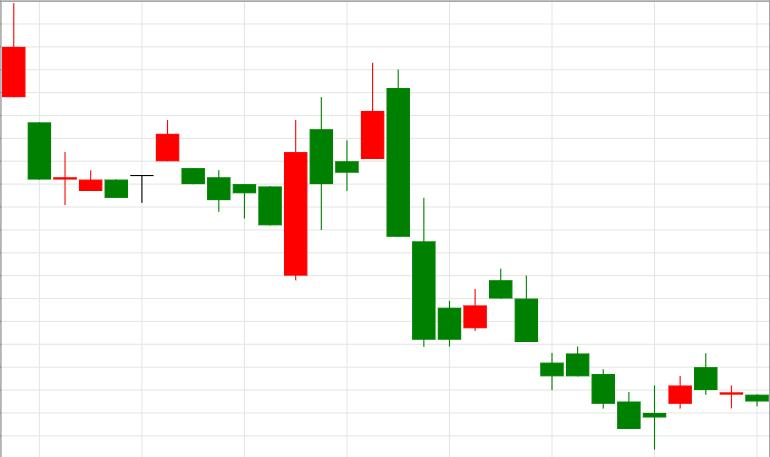bullish_engulfing_rise: (182, 119, 308, 281)
